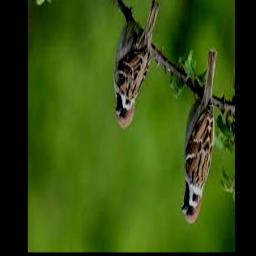Sparrow: (182, 48, 217, 224), (114, 0, 159, 130)
